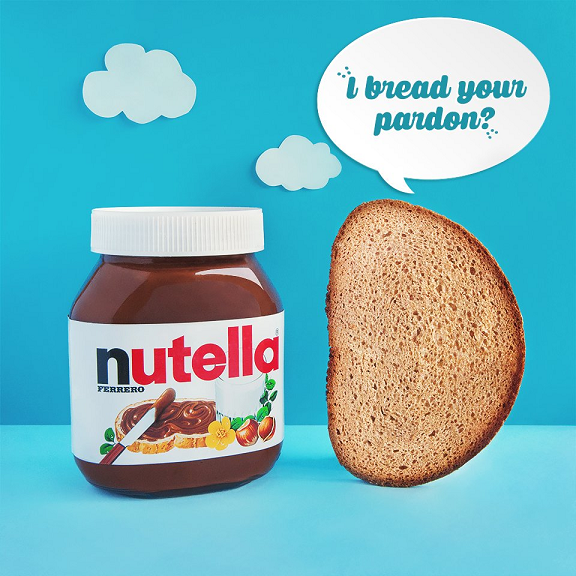nutella: (68, 206, 284, 498)
